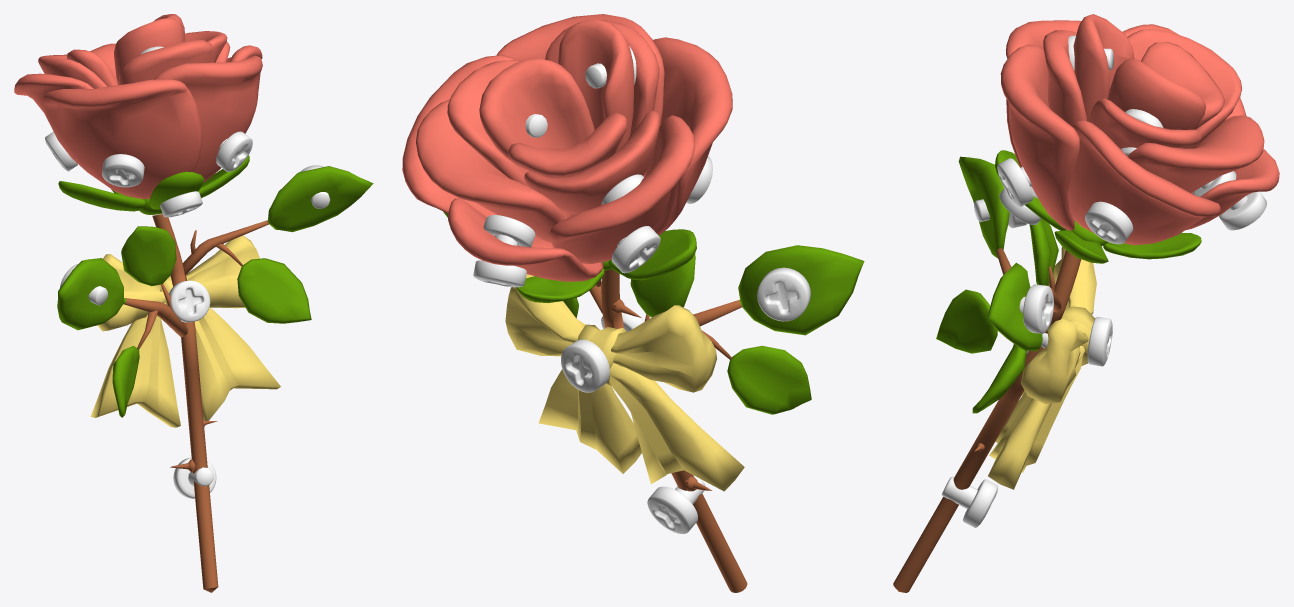
Rendered from Rose.fbx.
3 views of the same model, side by side, from view 1: azimuth 30°, elevation 25°; view 2: azimuth 150°, elevation 25°; view 3: azimuth 270°, elevation 25° (orthographic). The views are drawn at different scales.
Parts seen in each view (by area): view 1: Board_Rose_026, Board_Rose_020, Board_Rose_030, Board_Rose_022, Board_Rose_002, Screw (×6), Board_Rose_019, Board_Rose_016, Board_Rose_005, Board_Rose_010, Board_Rose_003, Board_Rose_009 (+2 smaller); view 2: Board_Rose_026, Board_Rose_022, Screw (×6), Board_Rose_008, Board_Rose_003, Board_Rose_004, Board_Rose_020, Board_Rose_010, Board_Rose_031, Board_Rose_006, Board_Rose_016, Board_Rose_019 (+5 smaller); view 3: Board_Rose_026, Board_Rose_001, Screw (×7), Board_Rose_002, Board_Rose_022, Board_Rose_004, Board_Rose_019, Board_Rose_008, Board_Rose_030, Board_Rose_010, Board_Rose_016, Board_Rose_006 (+5 smaller).
Part boxes in pixels (x1,y1,x2,y2): Board_Rose_026: [90, 235, 280, 427]; Board_Rose_020: [42, 78, 202, 198]; Board_Rose_030: [183, 166, 373, 323]; Board_Rose_022: [57, 226, 187, 417]; Board_Rose_002: [154, 55, 262, 182]; Screw (×6): [45, 131, 252, 498]; Board_Rose_019: [152, 214, 218, 592]; Board_Rose_016: [58, 155, 249, 214]; Board_Rose_005: [119, 39, 214, 84]; Board_Rose_010: [114, 17, 183, 84]; Board_Rose_003: [14, 73, 93, 113]; Board_Rose_009: [67, 43, 117, 86]; Board_Rose_026: [505, 274, 744, 491]; Board_Rose_022: [630, 232, 864, 414]; Screw (×6): [473, 215, 810, 533]; Board_Rose_008: [479, 58, 594, 169]; Board_Rose_003: [549, 115, 695, 263]; Board_Rose_004: [416, 99, 566, 242]; Board_Rose_020: [652, 37, 732, 235]; Board_Rose_010: [558, 19, 634, 152]; Board_Rose_031: [448, 198, 603, 281]; Board_Rose_006: [524, 110, 659, 214]; Board_Rose_016: [516, 229, 696, 302]; Board_Rose_019: [601, 269, 747, 592]; Board_Rose_026: [988, 247, 1096, 489]; Board_Rose_001: [1068, 120, 1220, 245]; Screw (×7): [941, 158, 1266, 527]; Board_Rose_002: [1000, 44, 1079, 230]; Board_Rose_022: [936, 156, 1058, 353]; Board_Rose_004: [1128, 115, 1264, 192]; Board_Rose_019: [893, 250, 1081, 592]; Board_Rose_008: [1107, 58, 1205, 129]; Board_Rose_030: [972, 262, 1061, 413]; Board_Rose_010: [1073, 14, 1134, 121]; Board_Rose_016: [995, 150, 1201, 263]; Board_Rose_006: [1127, 28, 1241, 145].
Size of the model in its own units: 6.98 by 10.36 by 6.15.
Materials: 3 (1 with a texture image).
